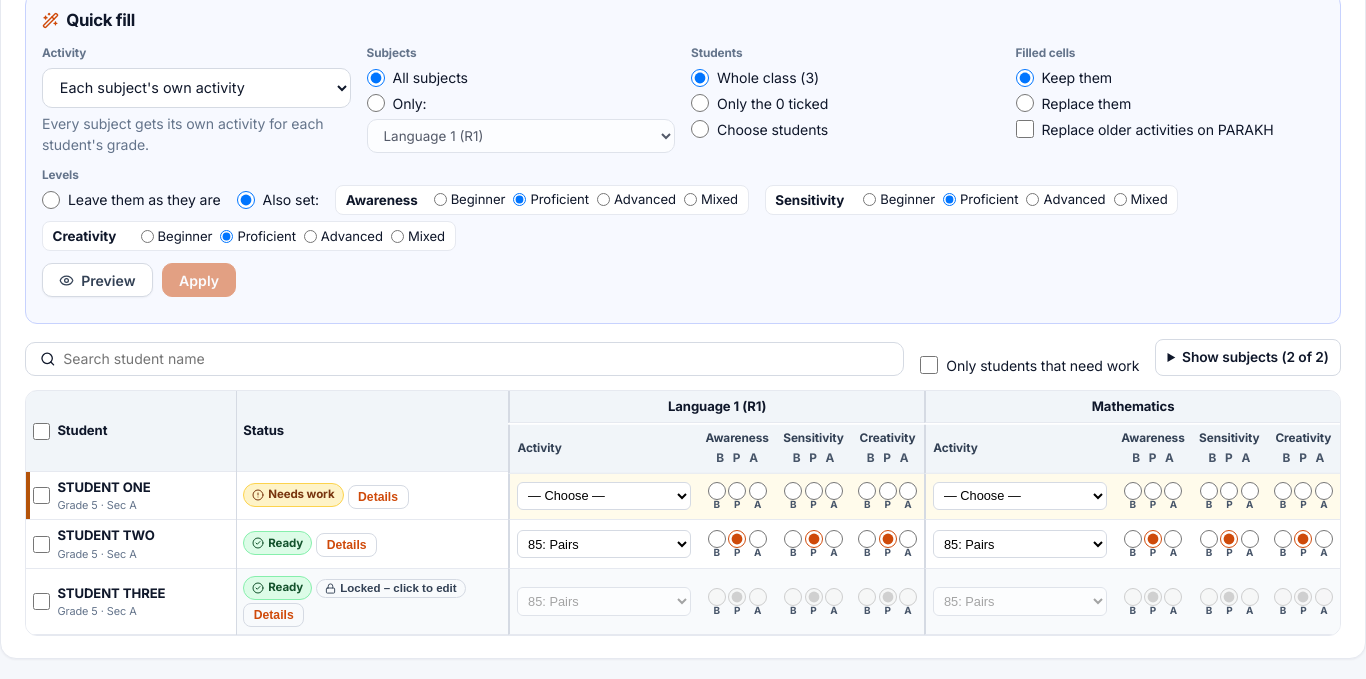
Test: Activities grid › shows every student with a status, subjects in groups and plain radio labels
(page scrolled)
expect the text "STUDENT ONE" is shown: met, box [57,478,151,498]
expect the column heading "Mathematics" is shown: met, box [924,391,1340,423]
Note: the badge itself shows the way to edit: it opens the details with the Replace tick-box
Click the button "Locked – click to edit". click: coordinates (391, 588)
box: [316,579,466,598]
(page scrolled)
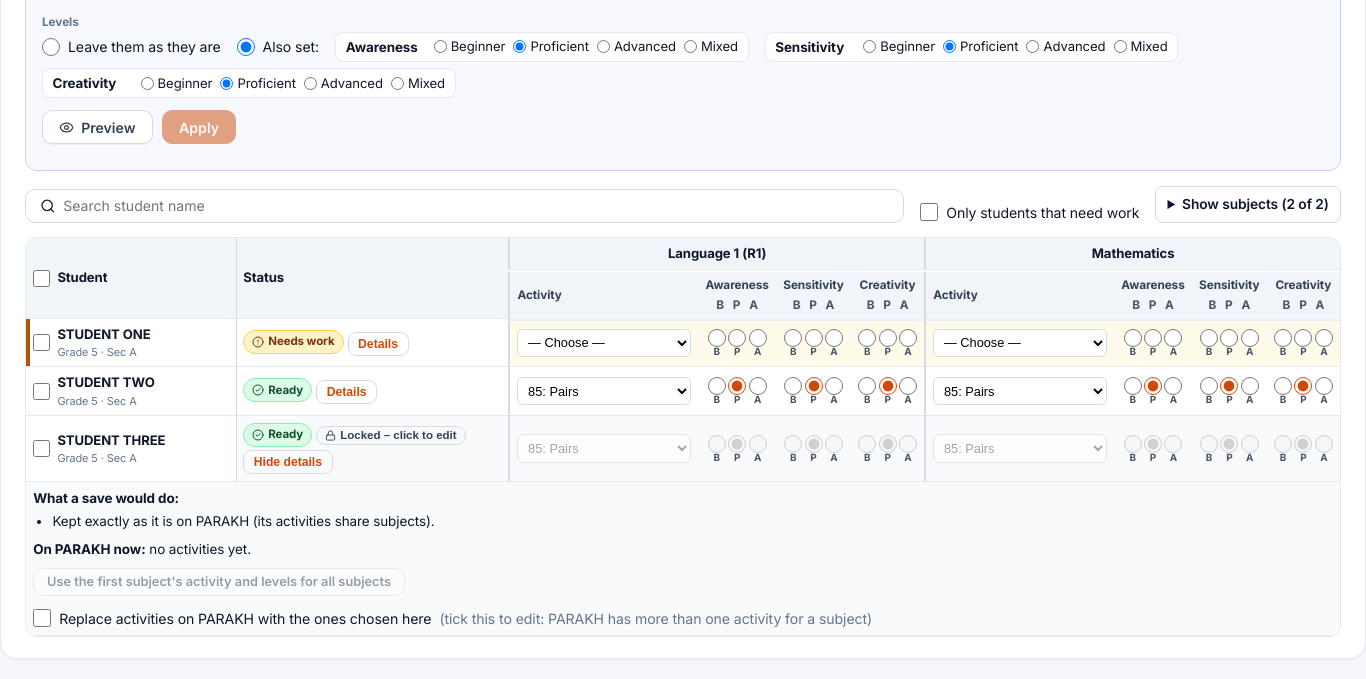
expect the text "tick this to edit" is shown: met, box [439,610,872,627]
